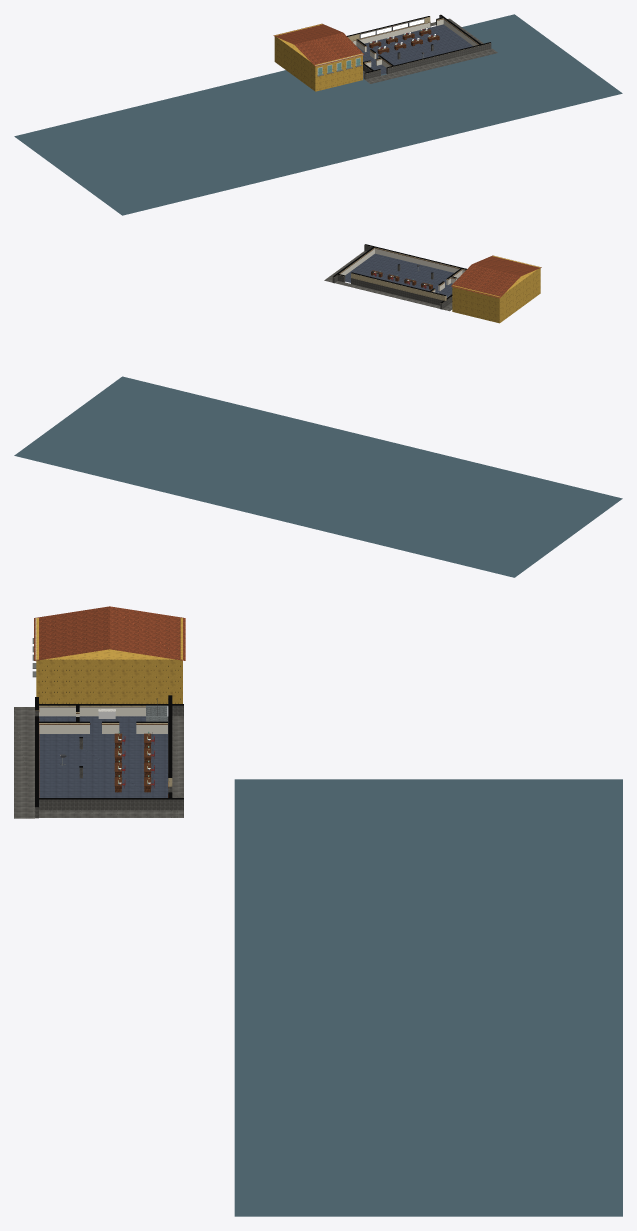
The model's file is marques_apuracao.glb.
3 renders of one model, top to bottom at view 1: azimuth 30°, elevation 25°; view 2: azimuth 150°, elevation 25°; view 3: azimuth 270°, elevation 25°, orthographic. The views are drawn at different scales.
Parts seen in each view (by area): view 1: Lapa_lagoon, Lapa_side_facade_yellow, Lapa_carpete, Lapa_side_roof, Lapa_concrete, Lapa_cream, Lapa_wood, Lapa_cap, Lapa_plaster, Lapa_tv_glow; view 2: Lapa_lagoon, Lapa_side_facade_yellow, Lapa_carpete, Lapa_side_roof, Lapa_concrete, Lapa_cream, Lapa_plaster, Lapa_cap; view 3: Lapa_lagoon, Lapa_carpete, Lapa_side_facade_yellow, Lapa_side_roof, Lapa_concrete, Lapa_cream, Lapa_cap, Lapa_wood.
Part boxes in pixels (x1,y1,x2,y2): Lapa_lagoon: [14, 14, 622, 215]; Lapa_side_facade_yellow: [274, 24, 362, 91]; Lapa_carpete: [356, 24, 472, 74]; Lapa_side_roof: [273, 23, 363, 66]; Lapa_concrete: [363, 15, 497, 83]; Lapa_cream: [352, 19, 477, 67]; Lapa_wood: [352, 19, 478, 66]; Lapa_cap: [347, 14, 490, 73]; Lapa_plaster: [348, 17, 490, 73]; Lapa_tv_glow: [360, 19, 435, 48]; Lapa_lagoon: [14, 376, 622, 577]; Lapa_side_facade_yellow: [452, 255, 540, 323]; Lapa_carpete: [345, 253, 459, 297]; Lapa_side_roof: [451, 255, 541, 298]; Lapa_concrete: [324, 245, 452, 311]; Lapa_cream: [340, 248, 465, 292]; Lapa_plaster: [339, 246, 465, 300]; Lapa_cap: [333, 244, 466, 303]; Lapa_lagoon: [234, 779, 622, 1216]; Lapa_carpete: [39, 716, 168, 797]; Lapa_side_facade_yellow: [36, 618, 182, 703]; Lapa_side_roof: [34, 606, 185, 660]; Lapa_concrete: [14, 705, 183, 818]; Lapa_cream: [39, 707, 167, 733]; Lapa_cap: [35, 695, 183, 807]; Lapa_wood: [39, 707, 168, 797].
Size of the model in its own units: 120 by 37.4 by 70.6.
Materials: 29 (9 with a texture image).
